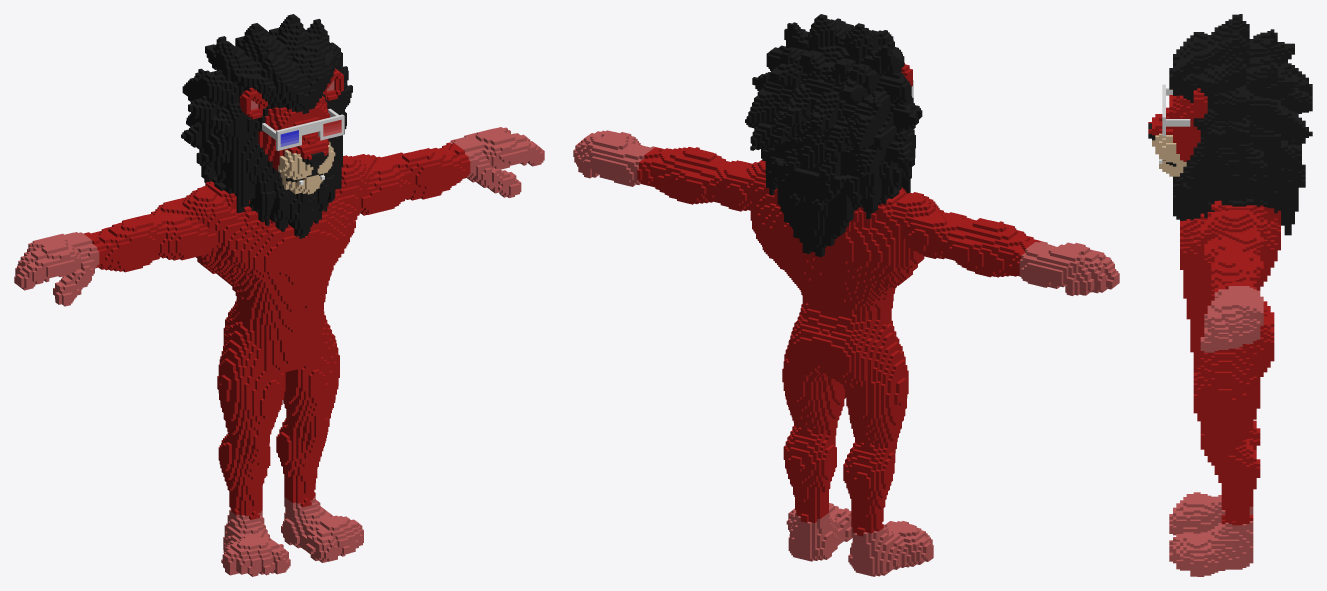
Rendered from 788-DsVCMth_.glb.
3 views of the same model, side by side, from view 1: azimuth 30°, elevation 25°; view 2: azimuth 150°, elevation 25°; view 3: azimuth 270°, elevation 25° (orthographic). The views are drawn at different scales.
Visible parts, largest first — view 1: standard; view 2: standard; view 3: standard.
Part boxes in pixels (left/top/right/bottom): standard: left=14, top=14, right=544, bottom=576; standard: left=573, top=14, right=1119, bottom=576; standard: left=1148, top=14, right=1312, bottom=576.
Bounding box in the file's own units: 17.2 × 16.5 × 4.7.
4 materials, 4 textured.
